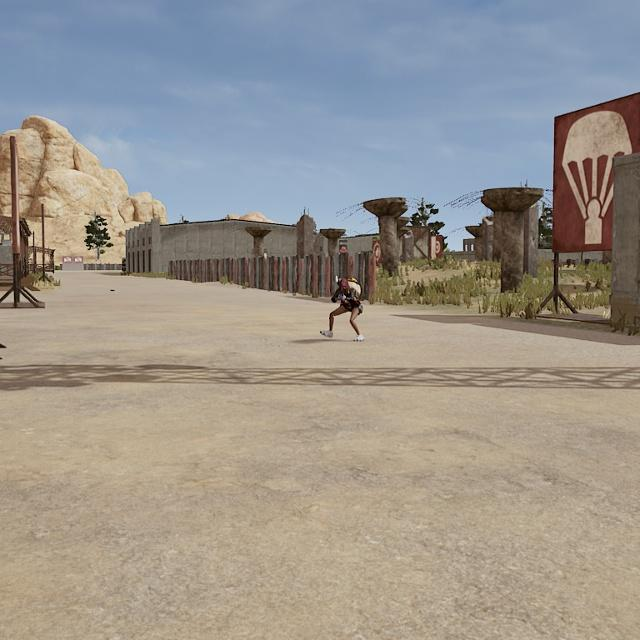head: (338, 278, 351, 294)
people: (319, 278, 365, 342)
